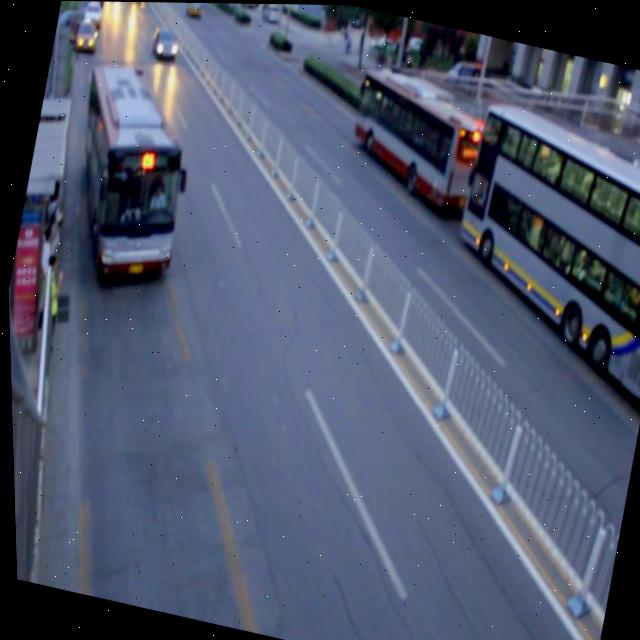car: (148, 22, 181, 61), (73, 18, 102, 52)
van: (425, 94, 640, 403), (50, 60, 205, 282), (338, 64, 495, 215)
